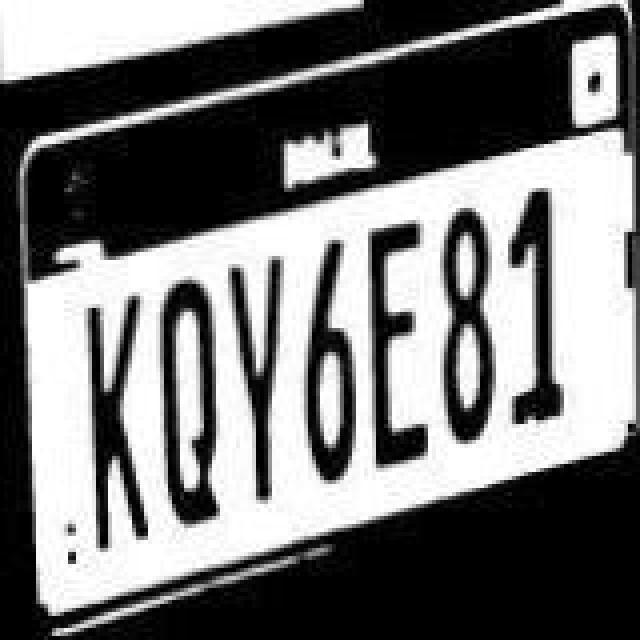1: (506, 184, 570, 440)
6: (294, 232, 358, 492)
8: (434, 204, 498, 456)
E: (366, 214, 430, 478)
K: (80, 290, 148, 558)
Q: (152, 270, 220, 542)
Y: (226, 244, 290, 512)
